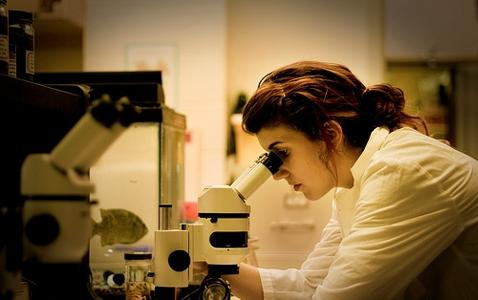person: (189, 61, 478, 300)
